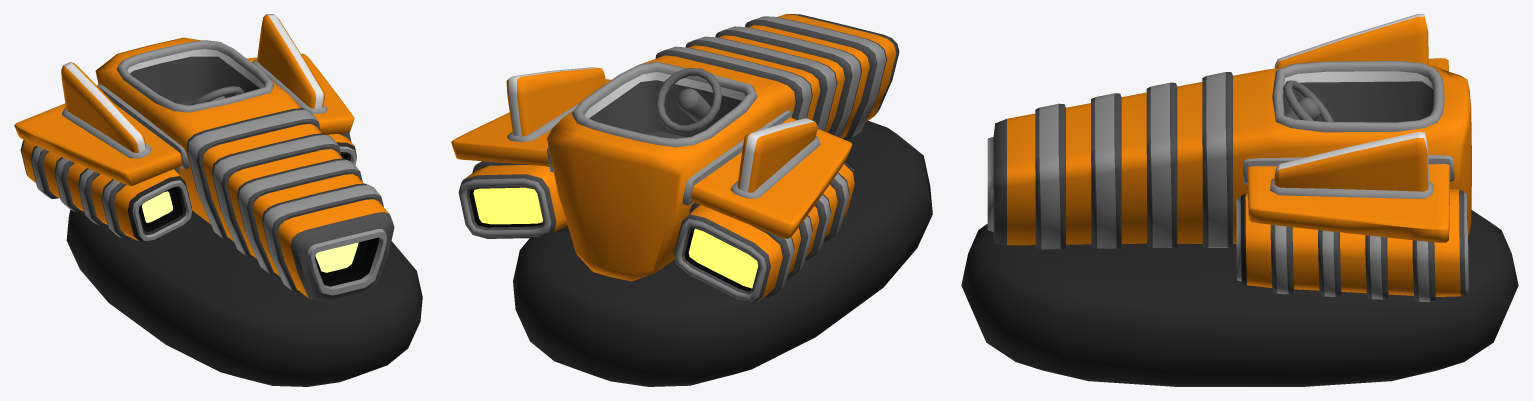
File: mesh_Car_InGame_D.fbx
The picture shows the model from 3 angles, left to right: view 1: azimuth 30°, elevation 25°; view 2: azimuth 150°, elevation 25°; view 3: azimuth 270°, elevation 25°; orthographic projection. The views are drawn at different scales.
Visible parts, largest first — view 1: mesh_Car_InGame_D; view 2: mesh_Car_InGame_D; view 3: mesh_Car_InGame_D.
Boxes of the visible parts, x1,y1,x2,y2 form: mesh_Car_InGame_D: (14, 14, 422, 386); mesh_Car_InGame_D: (451, 14, 932, 386); mesh_Car_InGame_D: (961, 14, 1518, 386).
Size of the model in its own units: 2.16 by 1.56 by 2.97.
